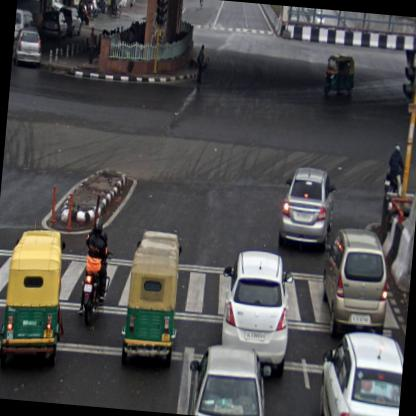car: (214, 247, 296, 382), (317, 224, 396, 342), (316, 327, 406, 415), (186, 344, 276, 415), (278, 167, 337, 246), (13, 28, 44, 70), (14, 9, 35, 49)
motorcycle: (78, 216, 115, 326), (382, 141, 408, 197)
